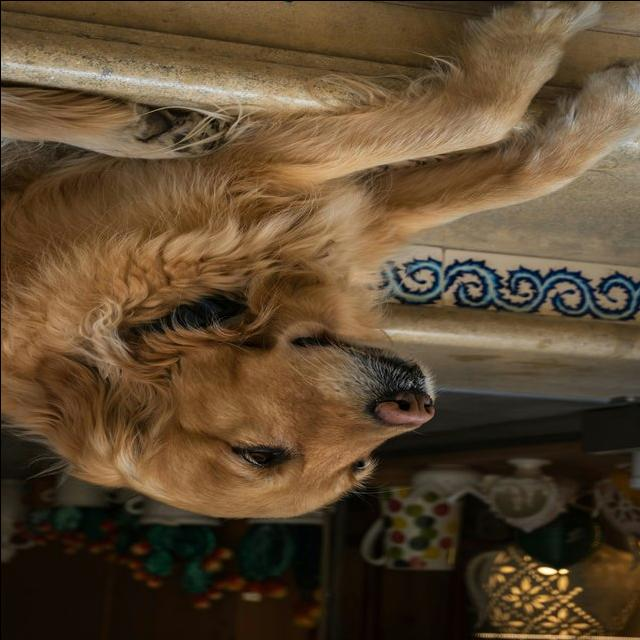retriever: (0, 2, 639, 521)
